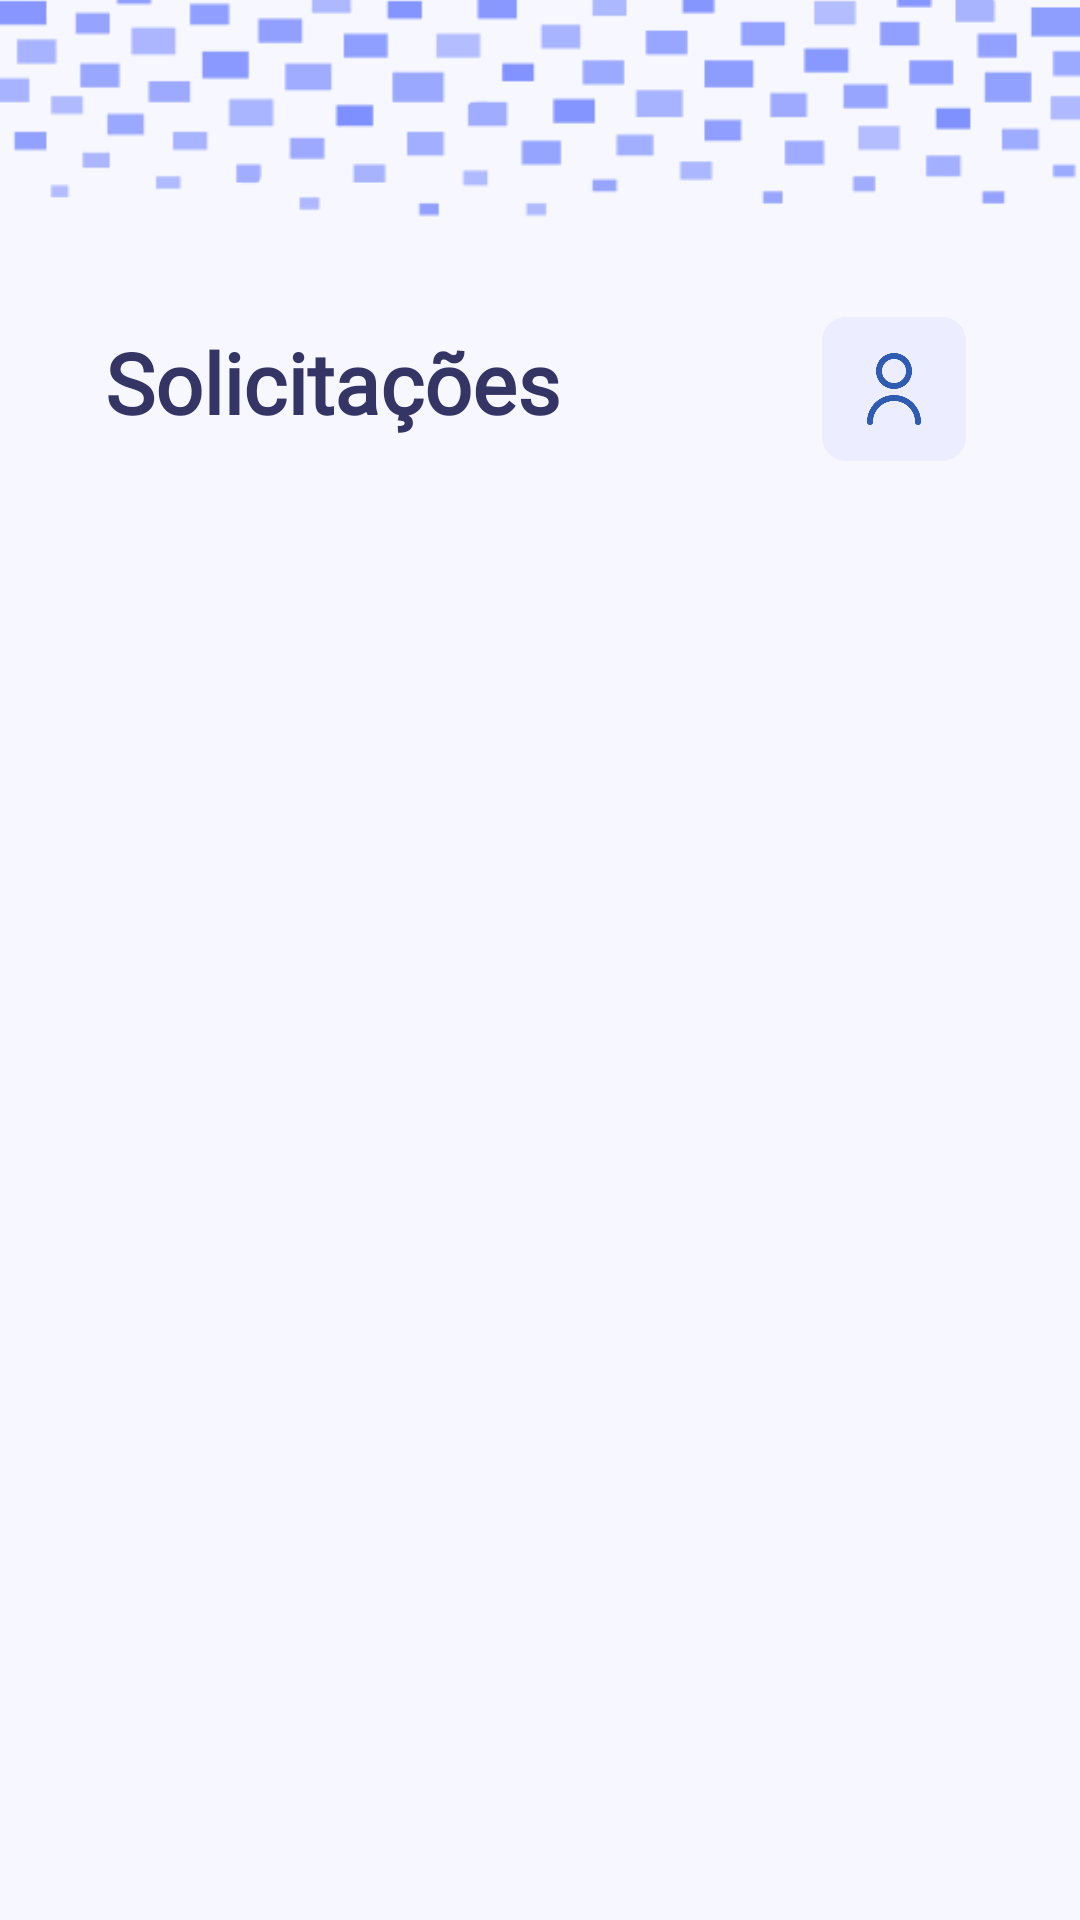

Screen size 1080px x 1920px. Icon name, then its center in pixels as (x=x, y=y):
perfil: (x=894, y=389)
